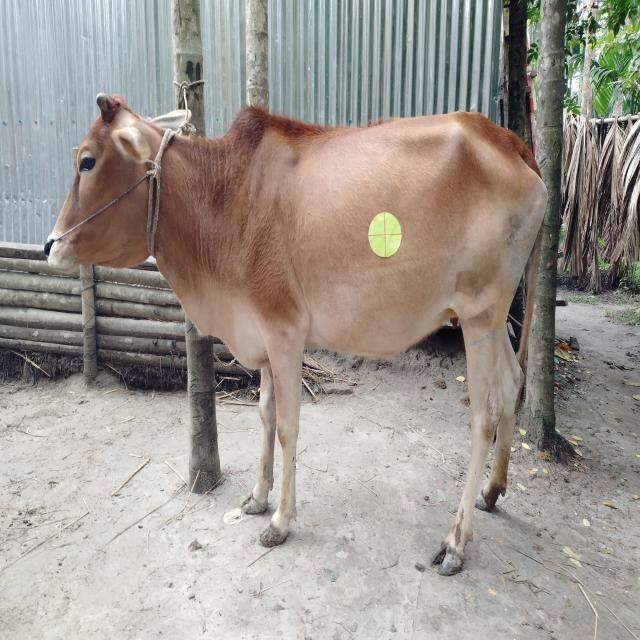badan_sapi: (232, 111, 550, 360)
sapi: (29, 70, 568, 609)
